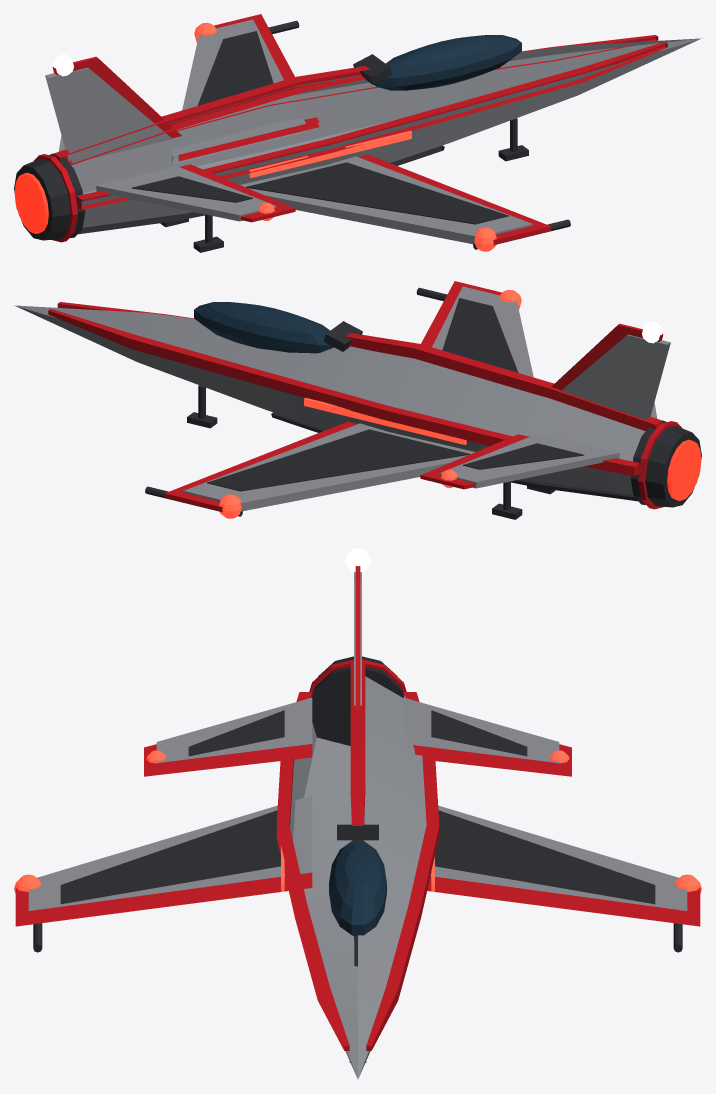
File: scout.glb
3 views of the same model, one above another, from view 1: azimuth 30°, elevation 25°; view 2: azimuth 150°, elevation 25°; view 3: azimuth 270°, elevation 25° (orthographic). The views are drawn at different scales.
Parts seen in each view (by area): view 1: scout_syndicate_hull, scout_syndicate_red, scout_syndicate_dark, scout_dark_canopy, scout_syndicate_lamp, scout_engine_glow; view 2: scout_syndicate_hull, scout_syndicate_red, scout_syndicate_dark, scout_dark_canopy, scout_syndicate_lamp, scout_engine_glow; view 3: scout_syndicate_hull, scout_syndicate_red, scout_syndicate_dark, scout_dark_canopy, scout_syndicate_lamp.
Boxes of the visible parts, x1,y1,x2,y2 form: scout_syndicate_hull: [45, 19, 701, 244]; scout_syndicate_red: [34, 14, 667, 245]; scout_syndicate_dark: [14, 20, 570, 252]; scout_dark_canopy: [374, 35, 521, 90]; scout_syndicate_lamp: [194, 22, 496, 251]; scout_engine_glow: [14, 172, 48, 233]; scout_syndicate_hull: [14, 286, 670, 511]; scout_syndicate_red: [48, 281, 681, 512]; scout_syndicate_dark: [145, 287, 701, 519]; scout_dark_canopy: [194, 302, 333, 353]; scout_syndicate_lamp: [219, 289, 521, 518]; scout_engine_glow: [667, 439, 701, 500]; scout_syndicate_hull: [28, 572, 687, 1079]; scout_syndicate_red: [15, 566, 700, 1050]; scout_syndicate_dark: [33, 656, 682, 1062]; scout_dark_canopy: [329, 840, 386, 935]; scout_syndicate_lamp: [14, 750, 701, 893].
Bounding box in the file's own units: 10 × 2.99 × 7.52.
